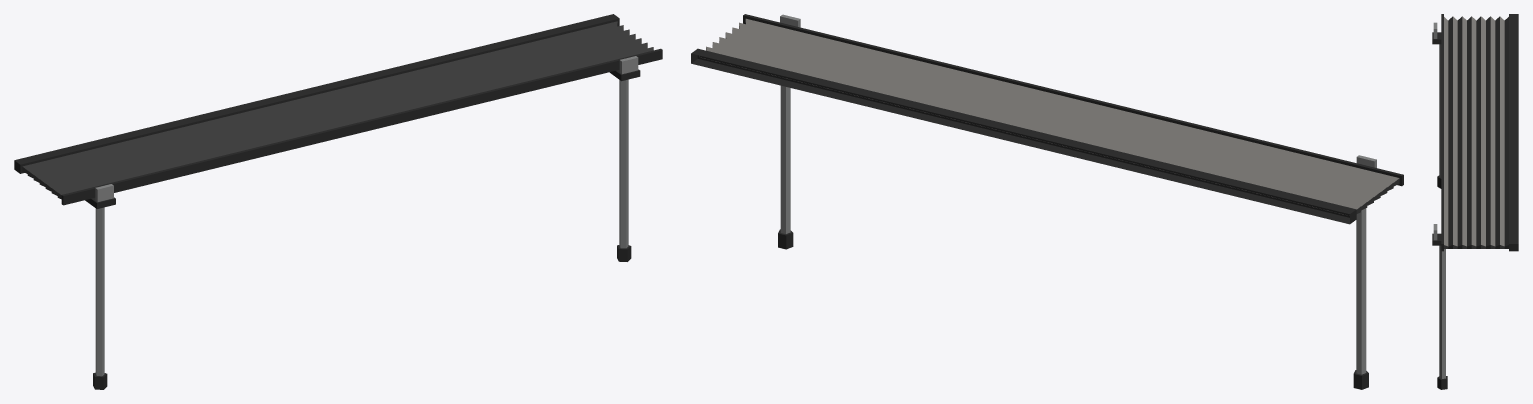
The model's file is Awning_A_01.FBX.
3 renders of one model, left to right at view 1: azimuth 30°, elevation 25°; view 2: azimuth 150°, elevation 25°; view 3: azimuth 270°, elevation 25°, orthographic. The views are drawn at different scales.
Parts seen in each view (by area): view 1: Awning_A_01; view 2: Awning_A_01; view 3: Awning_A_01.
Boxes of the visible parts, x1=… form: Awning_A_01: x1=14, y1=14, x2=662, y2=389; Awning_A_01: x1=691, y1=14, x2=1403, y2=389; Awning_A_01: x1=1432, y1=14, x2=1518, y2=389.
Size of the model in its own units: 9.83 by 3.2 by 1.56.
